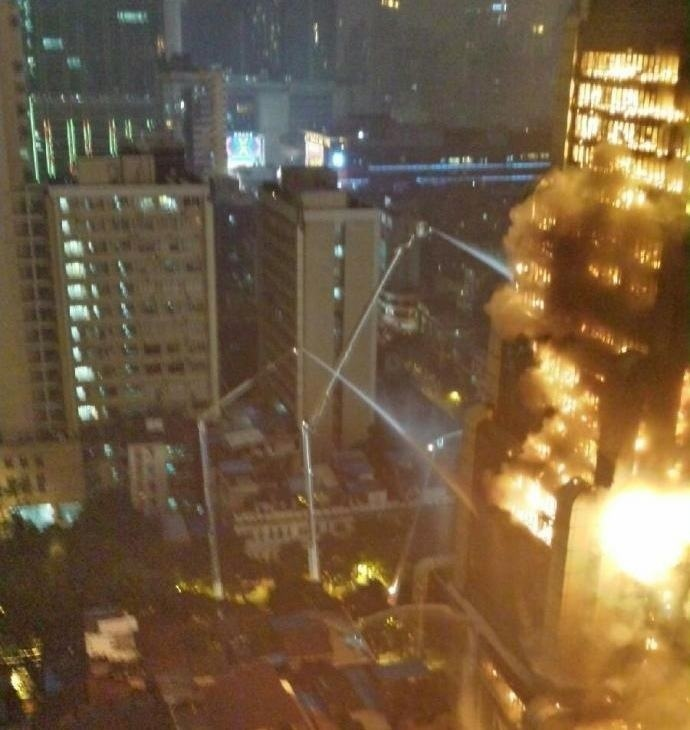fire: (481, 51, 686, 574)
